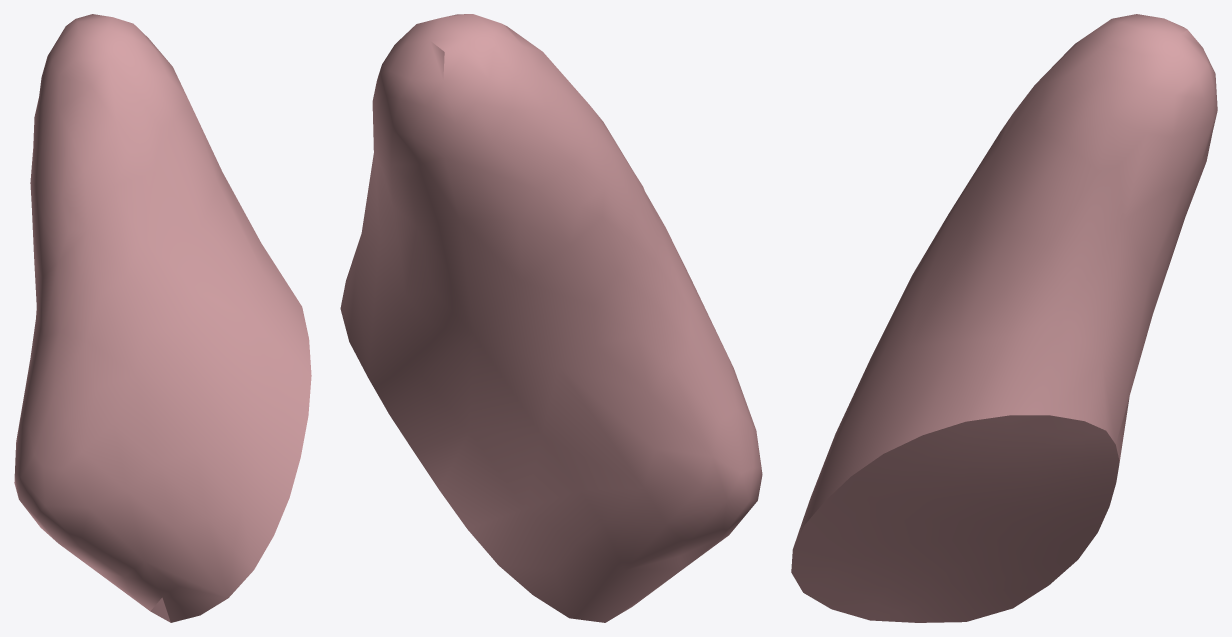
Rendered from fma39360-n_mm1940.glb.
3 views of the same model, side by side, from view 1: azimuth 30°, elevation 25°; view 2: azimuth 150°, elevation 25°; view 3: azimuth 270°, elevation 25° (orthographic). The views are drawn at different scales.
Visible parts, largest first — view 1: FMA39360-N_MM1940; view 2: FMA39360-N_MM1940; view 3: FMA39360-N_MM1940.
Boxes of the visible parts, box(x1,y1,x2,y2) form: FMA39360-N_MM1940: box(14, 14, 311, 622); FMA39360-N_MM1940: box(340, 14, 762, 622); FMA39360-N_MM1940: box(791, 14, 1217, 622).
Bounding box in the file's own units: 0.00662 × 0.0113 × 0.007.
